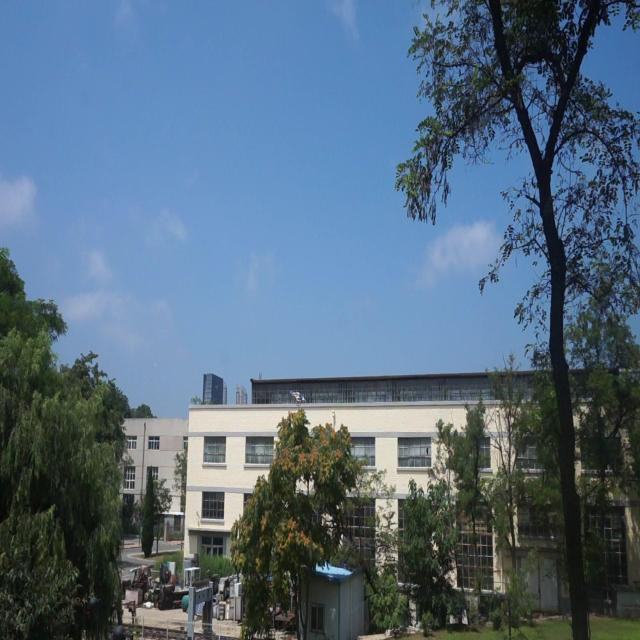drone: (290, 384, 307, 406)
